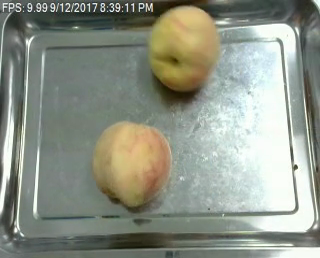Peach: (91, 120, 171, 207), (148, 3, 221, 93)
